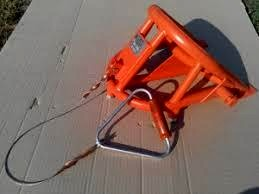chock: (104, 2, 259, 120)
